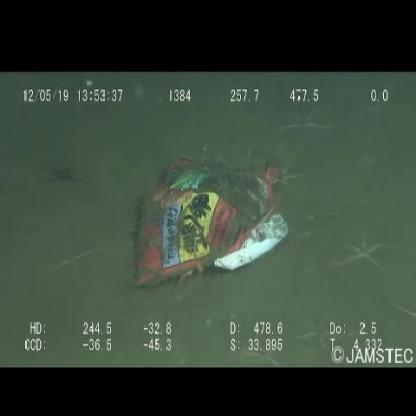Rác: (130, 154, 289, 294)
